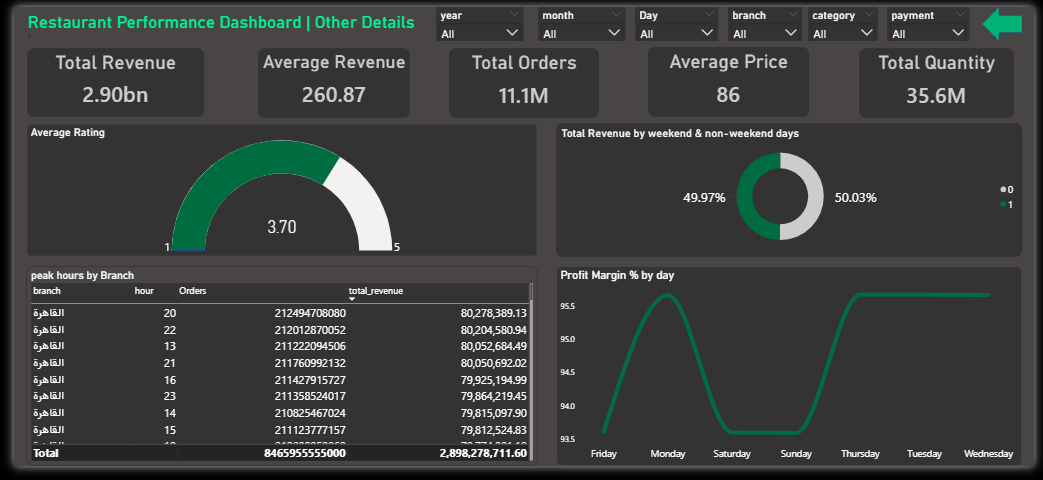

What the dashboard file says about the page in this screenshot:
{"tool":"powerbi","page":{"name":"Other Details","canvas":[3000,1350],"ordinal":3},"visuals":[{"type":"tableEx","title":"peak hours by Branch","fields":{"Values":["restaurant_table.branch","restaurant_table.hour","Sum(restaurant_table.order_id)","_Measures.total_revenue"]},"box":[35.3,761.8,1505.9,588.2],"z":0},{"type":"lineChart","title":"Profit Margin % by day","fields":{"Category":["restaurant_table.day_name"],"Y":["_Measures.Profit Margin %"]},"box":[1594.1,761.8,1370.6,588.2],"z":1000},{"type":"donutChart","title":"Total Revenue by weekend & non-weekend days ","fields":{"Y":["_Measures.total_revenue"],"Category":["restaurant_table.is_weekend"]},"box":[1594.1,341.2,1370.6,394.1],"z":2000},{"type":"gauge","title":"Average Rating","fields":{"MinValue":["_Measures.min_rating"],"MaxValue":["_Measures.max_rating"],"Y":["_Measures.avg_rating"]},"box":[35.3,341.2,1505.9,394.1],"z":3000},{"type":"cardVisual","title":"Total Orders","fields":{"Data":["_Measures.Total Orders"]},"box":[1279.4,120.6,441.2,205.9],"z":4000},{"type":"cardVisual","title":"Total Quantity","fields":{"Data":["_Measures.Total Quantity"]},"box":[2485.3,120.6,455.9,205.9],"z":5000},{"type":"cardVisual","title":"Average Price","fields":{"Data":["_Measures.Average Price"]},"box":[1864.7,117.6,473.5,205.9],"z":6000},{"type":"cardVisual","title":"Average Revenue","fields":{"Data":["_Measures.Average Revnue"]},"box":[717.6,120.6,447.1,205.9],"z":7000},{"type":"textbox","title":"Restaurant Performance Dashboard | Other Details","box":[36.4,15.2,1181.8,100],"z":8000},{"type":"slicer","fields":{"Values":["restaurant_table.year"]},"box":[1242.4,0,257.6,100],"z":9000},{"type":"slicer","fields":{"Values":["restaurant_table.month"]},"box":[1542.4,0,257.6,100],"z":10000},{"type":"slicer","fields":{"Values":["restaurant_table.day_name"]},"box":[1827.3,0,245.5,100],"z":11000},{"type":"slicer","fields":{"Values":["restaurant_table.branch"]},"box":[2100,0,218.2,100],"z":12000},{"type":"slicer","fields":{"Values":["restaurant_table.payment_method"]},"box":[2566.7,0,242.4,100],"z":13000},{"type":"slicer","fields":{"Values":["restaurant_table.category"]},"box":[2336.4,0,206.1,100],"z":14000},{"type":"shape","box":[2847.1,0,117.6,100],"z":15000},{"type":"cardVisual","title":"Total Revenue","fields":{"Data":["_Measures.total_revenue"]},"box":[38.2,120.6,520.6,202.9],"z":16000}]}

Visuals, with their boxes in screenshot pixels (x1, y1, x2, y2), scaled from the page's 3000x1350 canvas onto the 1043x480 screenshot:
"peak hours by Branch" tableEx: bbox=(12, 271, 536, 479)
"Profit Margin % by day" lineChart: bbox=(554, 271, 1031, 479)
"Total Revenue by weekend & non-weekend days " donutChart: bbox=(554, 121, 1031, 261)
"Average Rating" gauge: bbox=(12, 121, 536, 261)
"Total Orders" cardVisual: bbox=(445, 43, 598, 116)
"Total Quantity" cardVisual: bbox=(864, 43, 1023, 116)
"Average Price" cardVisual: bbox=(648, 42, 813, 115)
"Average Revenue" cardVisual: bbox=(249, 43, 405, 116)
"Restaurant Performance Dashboard | Other Details" textbox: bbox=(13, 5, 424, 41)
slicer - restaurant_table.year: bbox=(432, 0, 522, 36)
slicer - restaurant_table.month: bbox=(536, 0, 626, 36)
slicer - restaurant_table.day_name: bbox=(635, 0, 721, 36)
slicer - restaurant_table.branch: bbox=(730, 0, 806, 36)
slicer - restaurant_table.payment_method: bbox=(892, 0, 977, 36)
slicer - restaurant_table.category: bbox=(812, 0, 884, 36)
shape: bbox=(990, 0, 1031, 36)
"Total Revenue" cardVisual: bbox=(13, 43, 194, 115)
